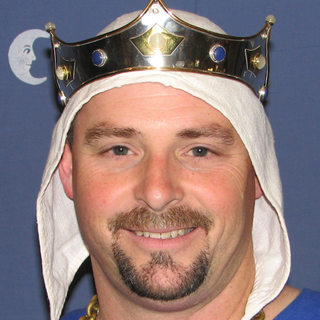eye: (97, 140, 143, 163), (178, 141, 224, 164)
